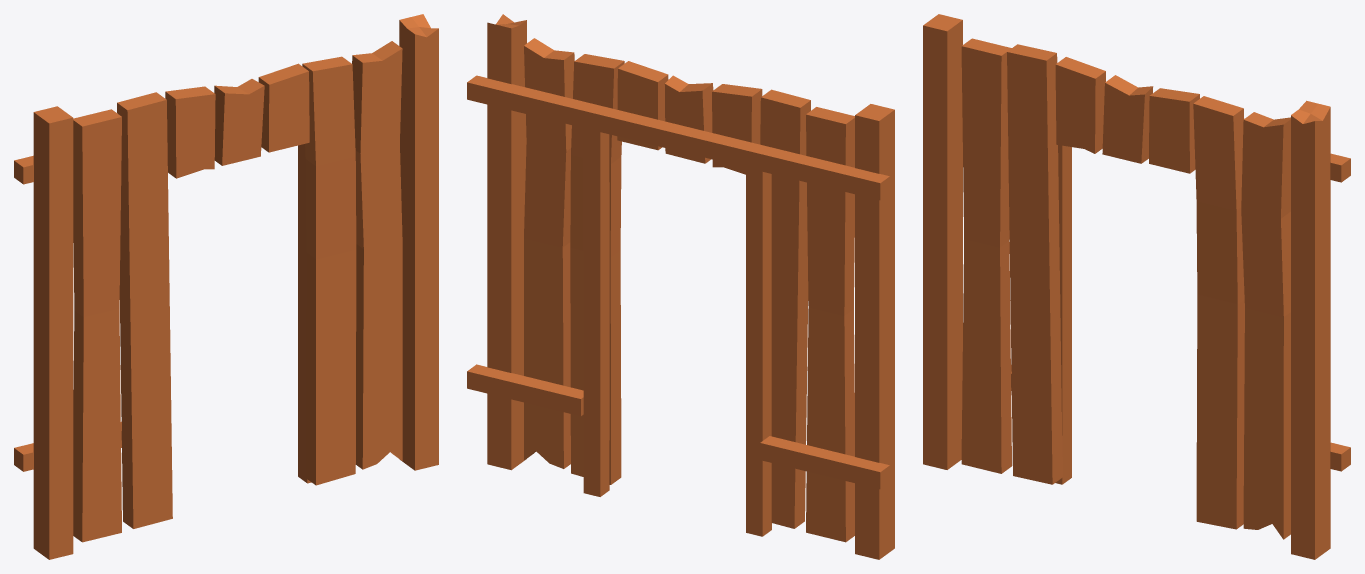
The model's file is Gate.glb.
3 renders of one model, left to right at view 1: azimuth 30°, elevation 25°; view 2: azimuth 150°, elevation 25°; view 3: azimuth 330°, elevation 25°, orthographic.
Parts seen in each view (by area): view 1: WoodDoor2; view 2: WoodDoor2; view 3: WoodDoor2.
Boxes of the visible parts, x1=… form: WoodDoor2: x1=14, y1=14, x2=438, y2=559; WoodDoor2: x1=467, y1=14, x2=894, y2=559; WoodDoor2: x1=923, y1=14, x2=1350, y2=559.
Bounding box in the file's own units: 2 × 2.04 × 0.2086.
